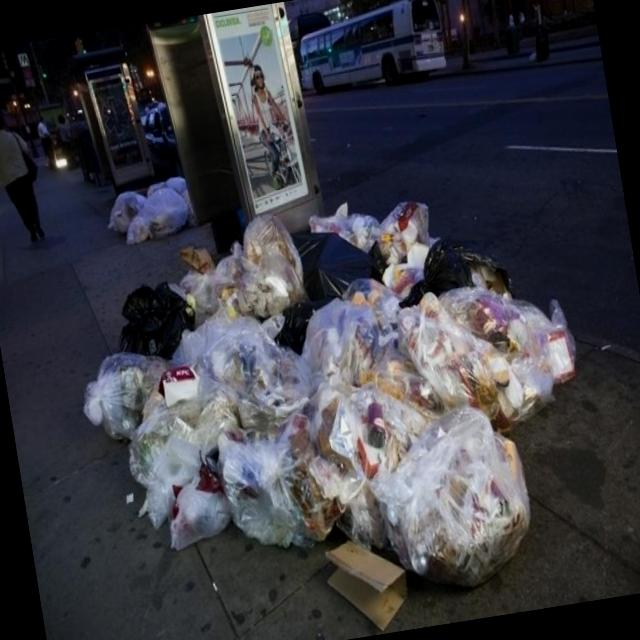garbage: (84, 202, 576, 628), (108, 180, 190, 243)
